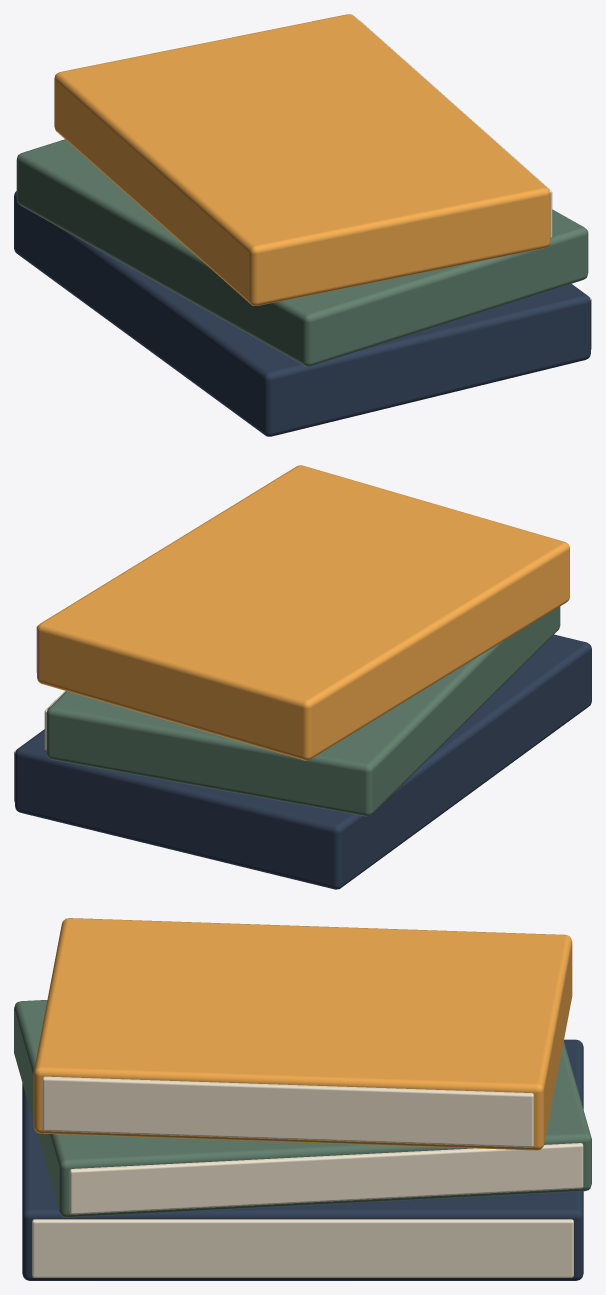
File: books.glb
3 renders of one model, top to bottom at view 1: azimuth 30°, elevation 25°; view 2: azimuth 150°, elevation 25°; view 3: azimuth 270°, elevation 25°, orthographic. The views are drawn at different scales.
Visible parts, largest first — view 1: BookCover.002, BookCover, BookCover.001; view 2: BookCover.002, BookCover, BookCover.001; view 3: BookCover.002, BookPages, BookPages.002, BookPages.001, BookCover.001, BookCover.
Part boxes in pixels (x1,y1,x2,y2): BookCover.002: (54,14,550,305); BookCover: (14,191,590,436); BookCover.001: (16,139,588,366); BookCover.002: (37,465,569,760); BookCover: (15,634,591,889); BookCover.001: (46,606,560,816); BookCover.002: (33,918,572,1150); BookPages: (32,1219,573,1277); BookPages.002: (42,1076,533,1147); BookPages.001: (69,1143,583,1214); BookCover.001: (14,1000,591,1217); BookCover: (22,1039,583,1280).
Bounding box in the file's own units: 0.1862 × 0.088 × 0.2369.
